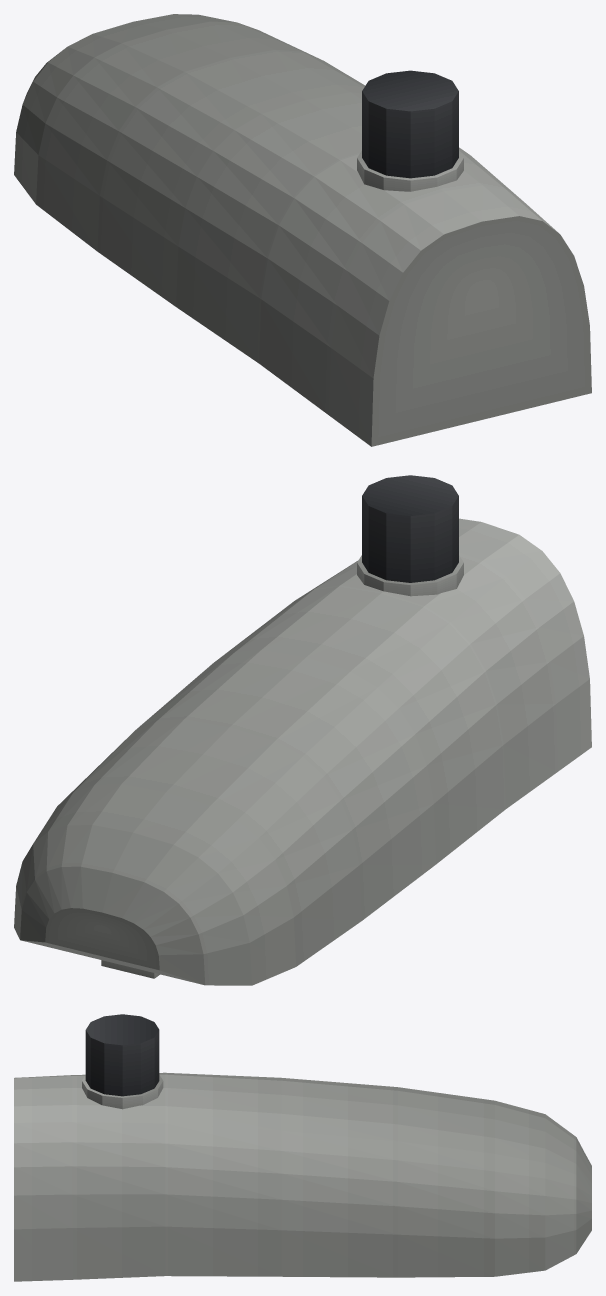
Rendered from streetlight_gem240r1cu.obj.
3 renders of one model, top to bottom at view 1: azimuth 30°, elevation 25°; view 2: azimuth 150°, elevation 25°; view 3: azimuth 270°, elevation 25°, orthographic. The views are drawn at different scales.
Parts seen in each view (by area): view 1: fixture; view 2: fixture; view 3: fixture.
Part boxes in pixels (box(x1,y1,x2,y2)): fixture: box(14, 14, 591, 446); fixture: box(14, 475, 591, 985); fixture: box(14, 1014, 591, 1281).
Bounding box in the file's own units: 0.375 × 0.375 × 0.9312.
